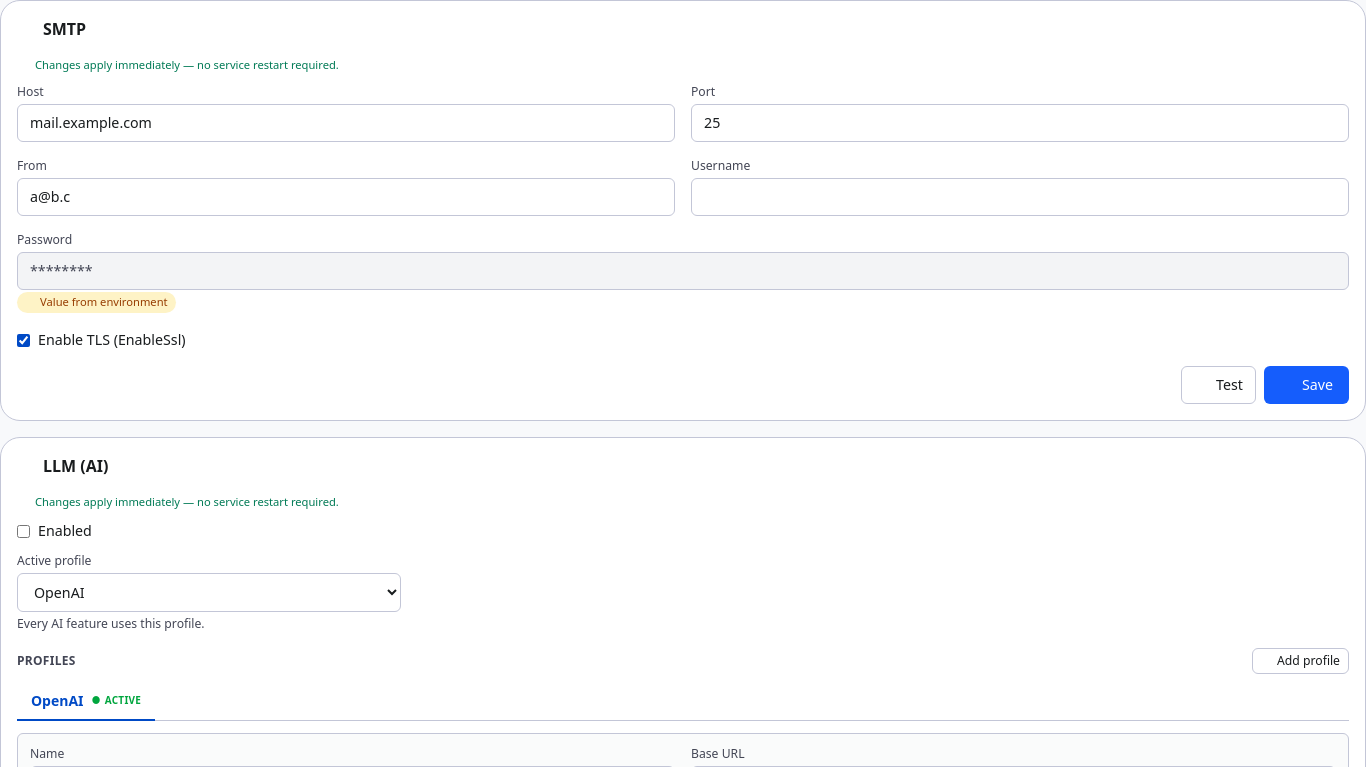
IntegrationsSection — SMTP card › 412 ETag-mismatch opens the conflict dialog
Check: the field showing "mail.example.com" is shown, box [17,104,675,142]
Click the button "Save". click: (1306, 385)
box: [1264,366,1349,404]
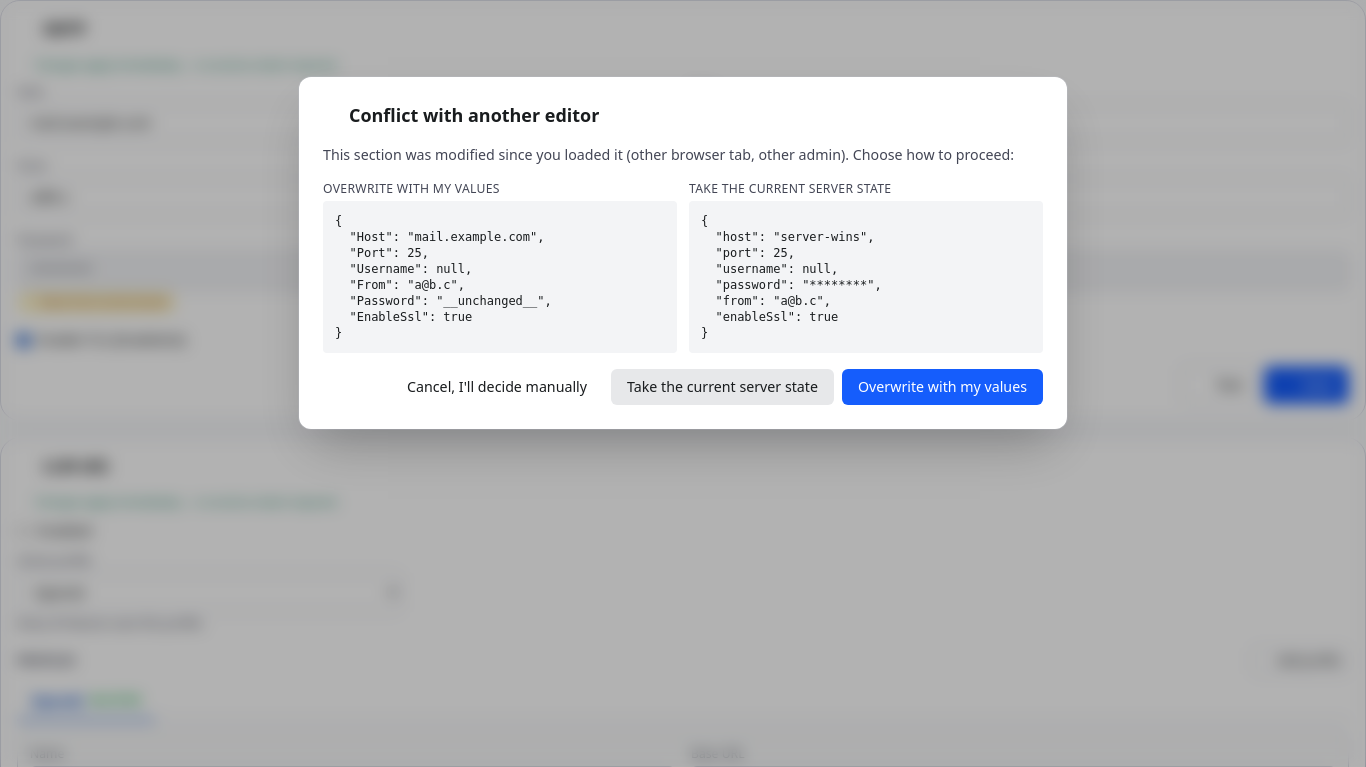
Check: the heading "Conflict with another editor" is shown, box [349,101,599,129]
Check: the text "server-wins" is shown, box [701,214,882,340]
